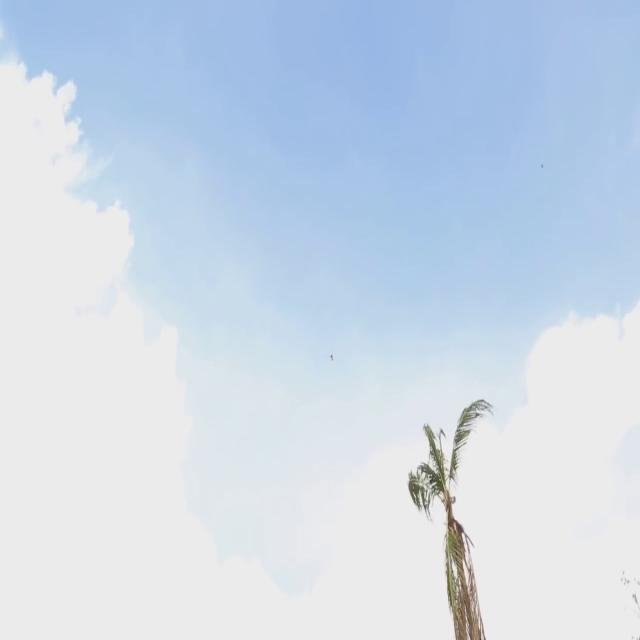drone: (328, 349, 338, 363)
